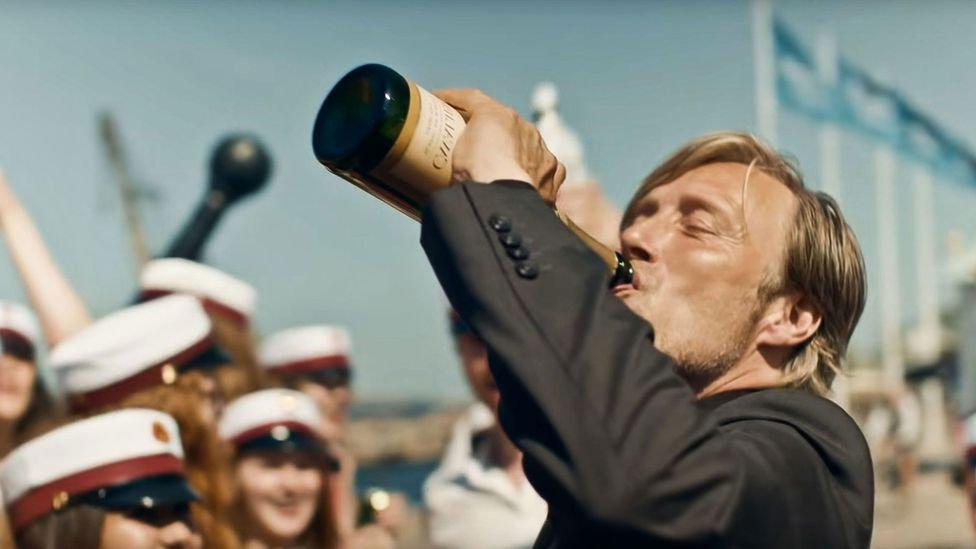Drunk: (619, 172, 750, 369)
